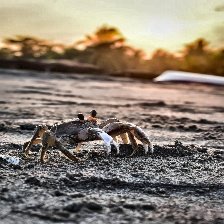crab: (153, 70, 224, 86)
